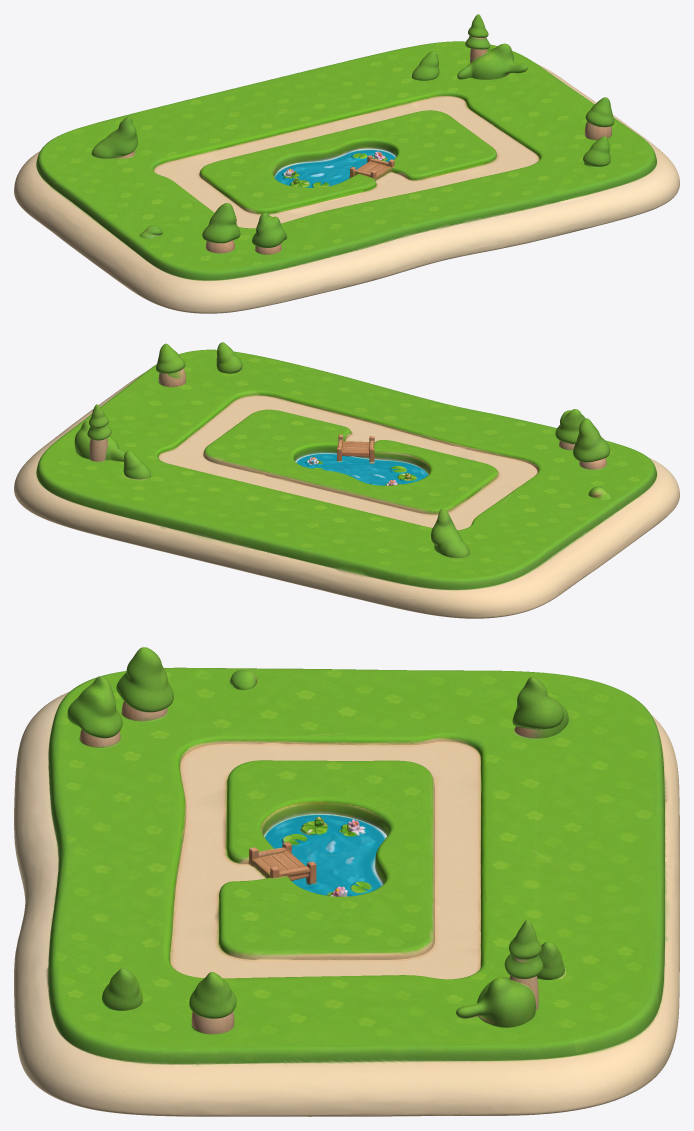
The model's file is base_island.glb.
The picture shows the model from 3 angles, top to bottom: view 1: azimuth 30°, elevation 25°; view 2: azimuth 150°, elevation 25°; view 3: azimuth 270°, elevation 25°; orthographic projection. The views are drawn at different scales.
Size of the model in its own units: 1.9 by 0.2958 by 1.28.
Materials: 1 (1 with a texture image).
